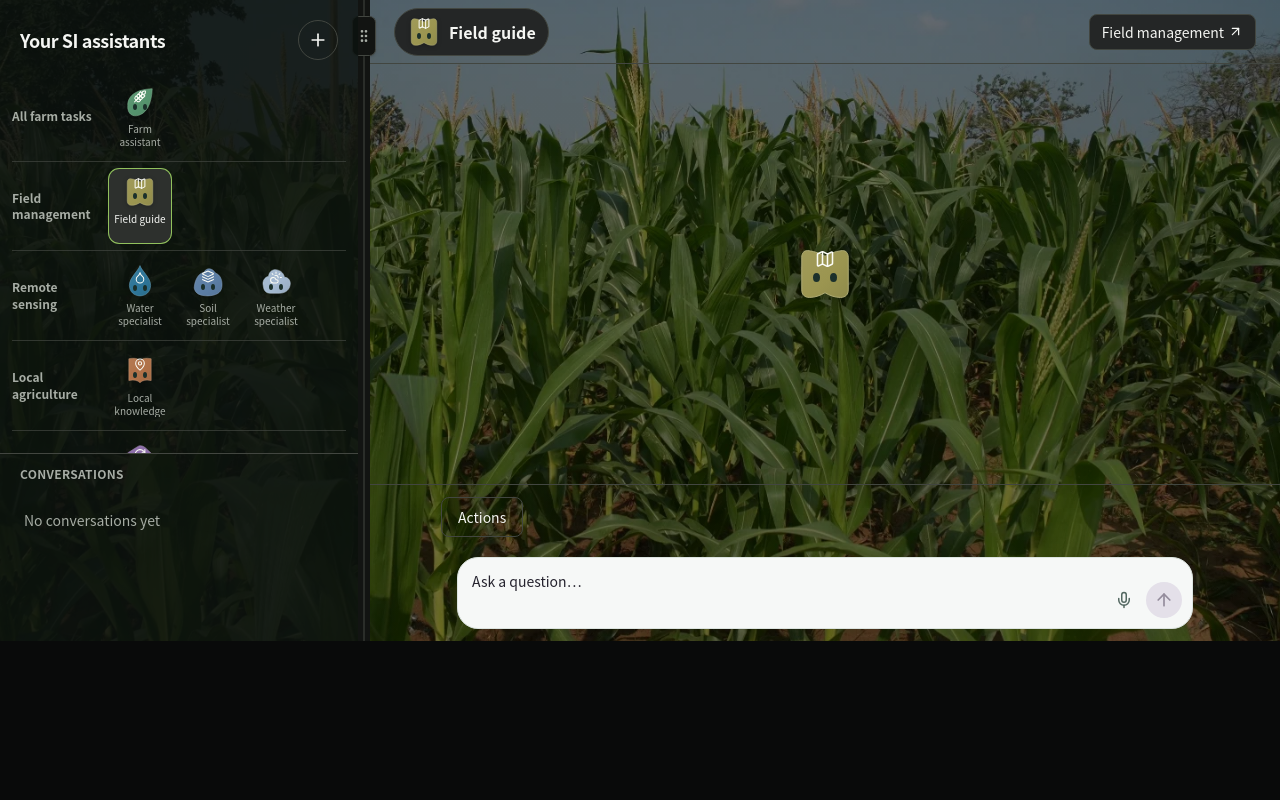
Scenario: creates a conversation in the chosen domain and keeps it selectable in history
Expected: the heading "Your SI assistants" is shown, [20,26,165,54]
Expected: the button "Field guide" is shown, [108,168,172,244]
Click the button "Water specialist": (140, 296) [108,257,172,334]
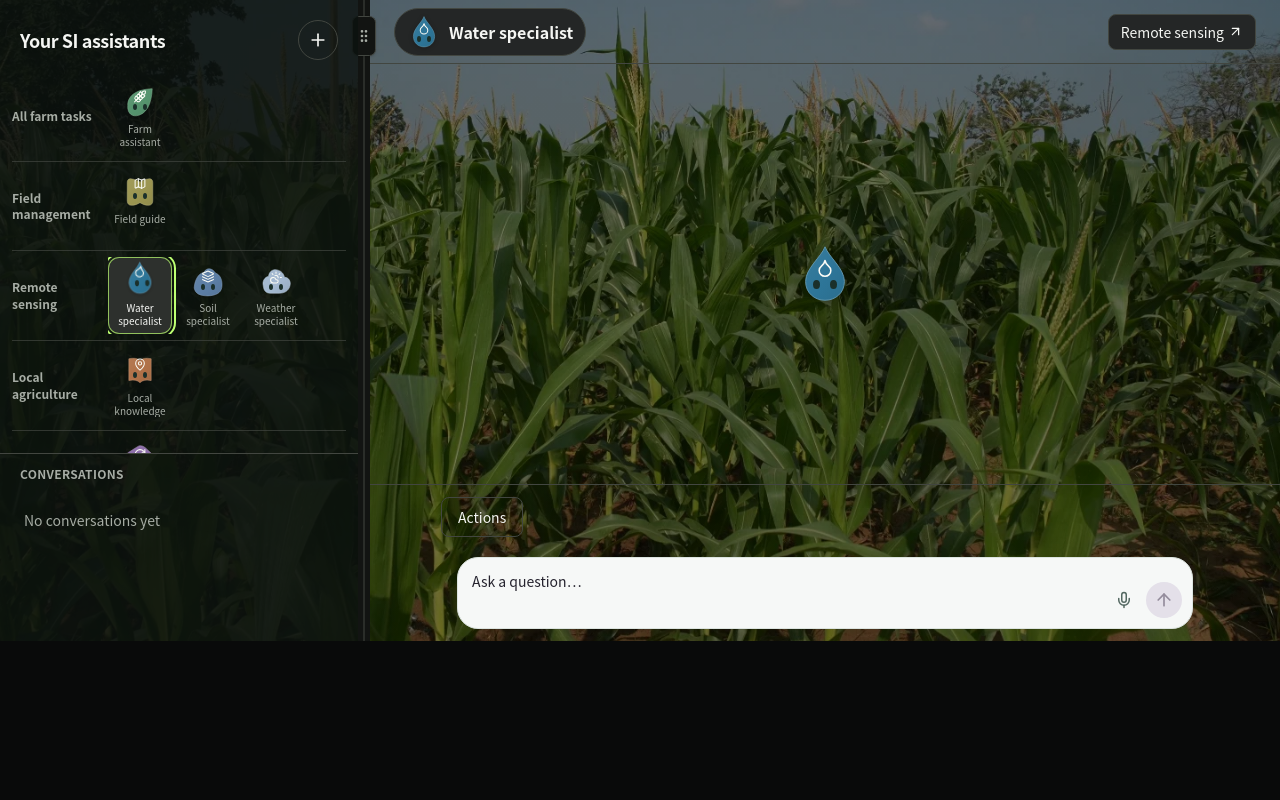
Click the button named "New chat": (318, 40) [298,20,338,60]
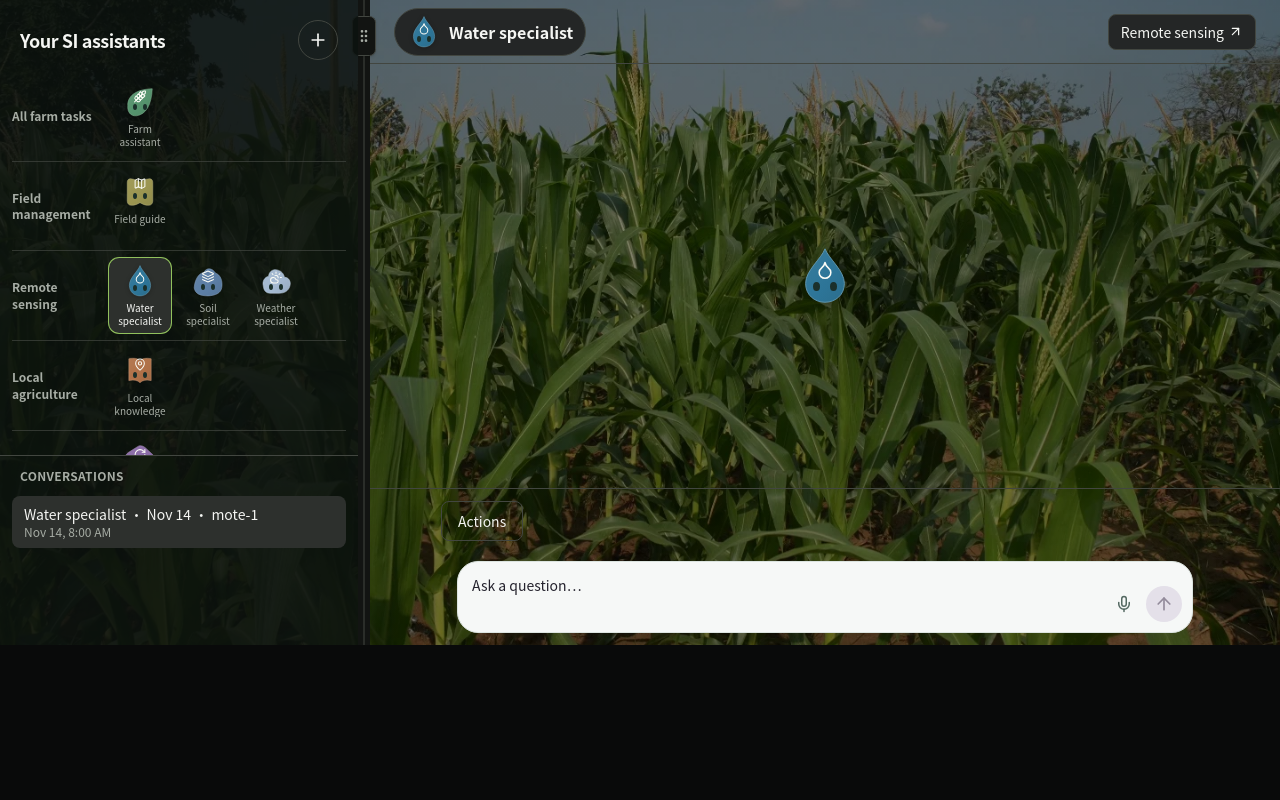
Now the heading "Water specialist" is shown, box [449,20,573,44]
Now the button "Water specialist · Nov 14 · mote-1 Nov 14, 8:00 AM" is shown, box [12,496,346,548]
